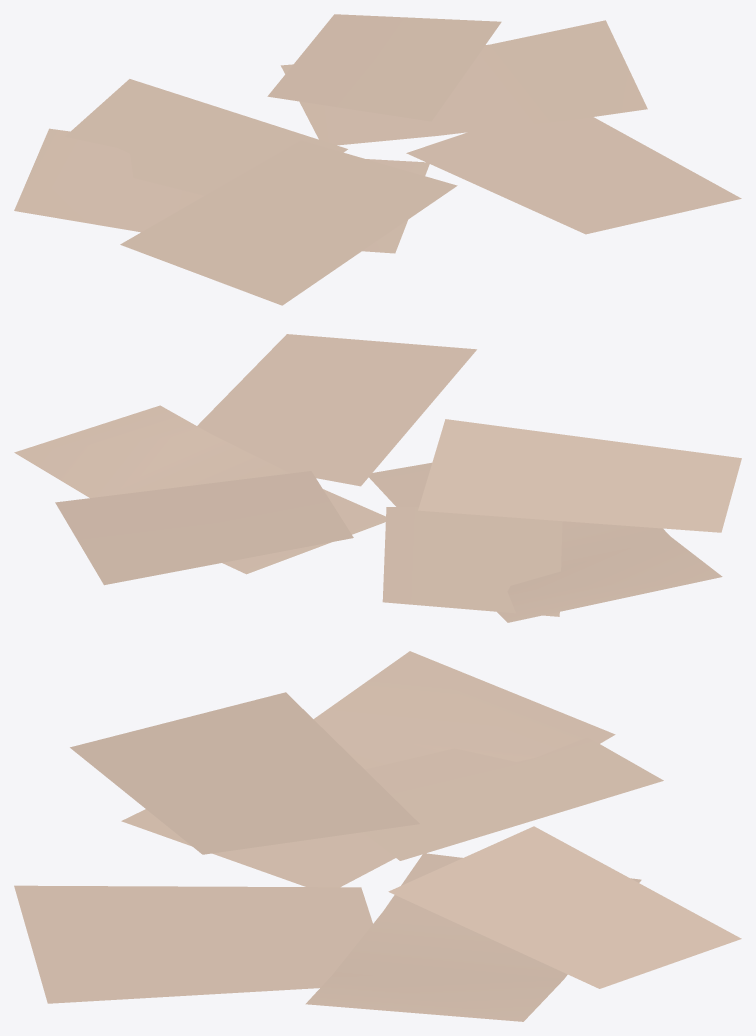
Rendered from papers.fbx.
The picture shows the model from 3 angles, top to bottom: view 1: azimuth 30°, elevation 25°; view 2: azimuth 150°, elevation 25°; view 3: azimuth 270°, elevation 25°; orthographic projection. The views are drawn at different scales.
Visible parts, largest first — view 1: papers; view 2: papers; view 3: papers.
Part boxes in pixels (x1,y1,x2,y2): papers: (14, 14, 741, 305); papers: (14, 334, 741, 622); papers: (14, 651, 741, 1021).
Size of the model in its own units: 50.38 by 1.7 by 41.85.
